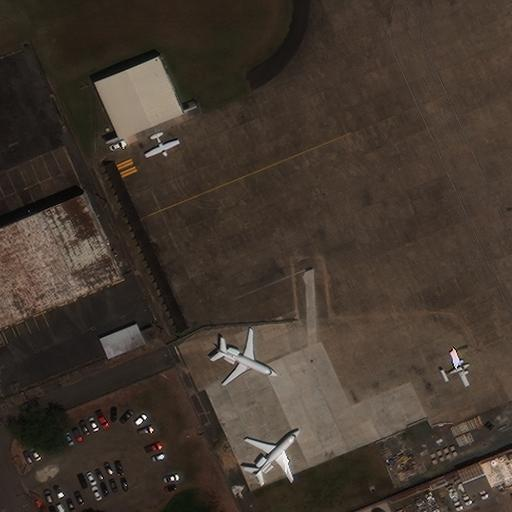Medium Civil Transport: (216, 329, 277, 384), (246, 429, 297, 480)
Small Civil Transport: (442, 352, 470, 384), (146, 133, 179, 158)
